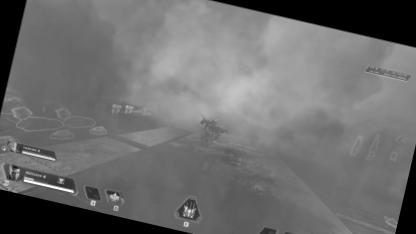Target: (198, 117, 221, 143)
